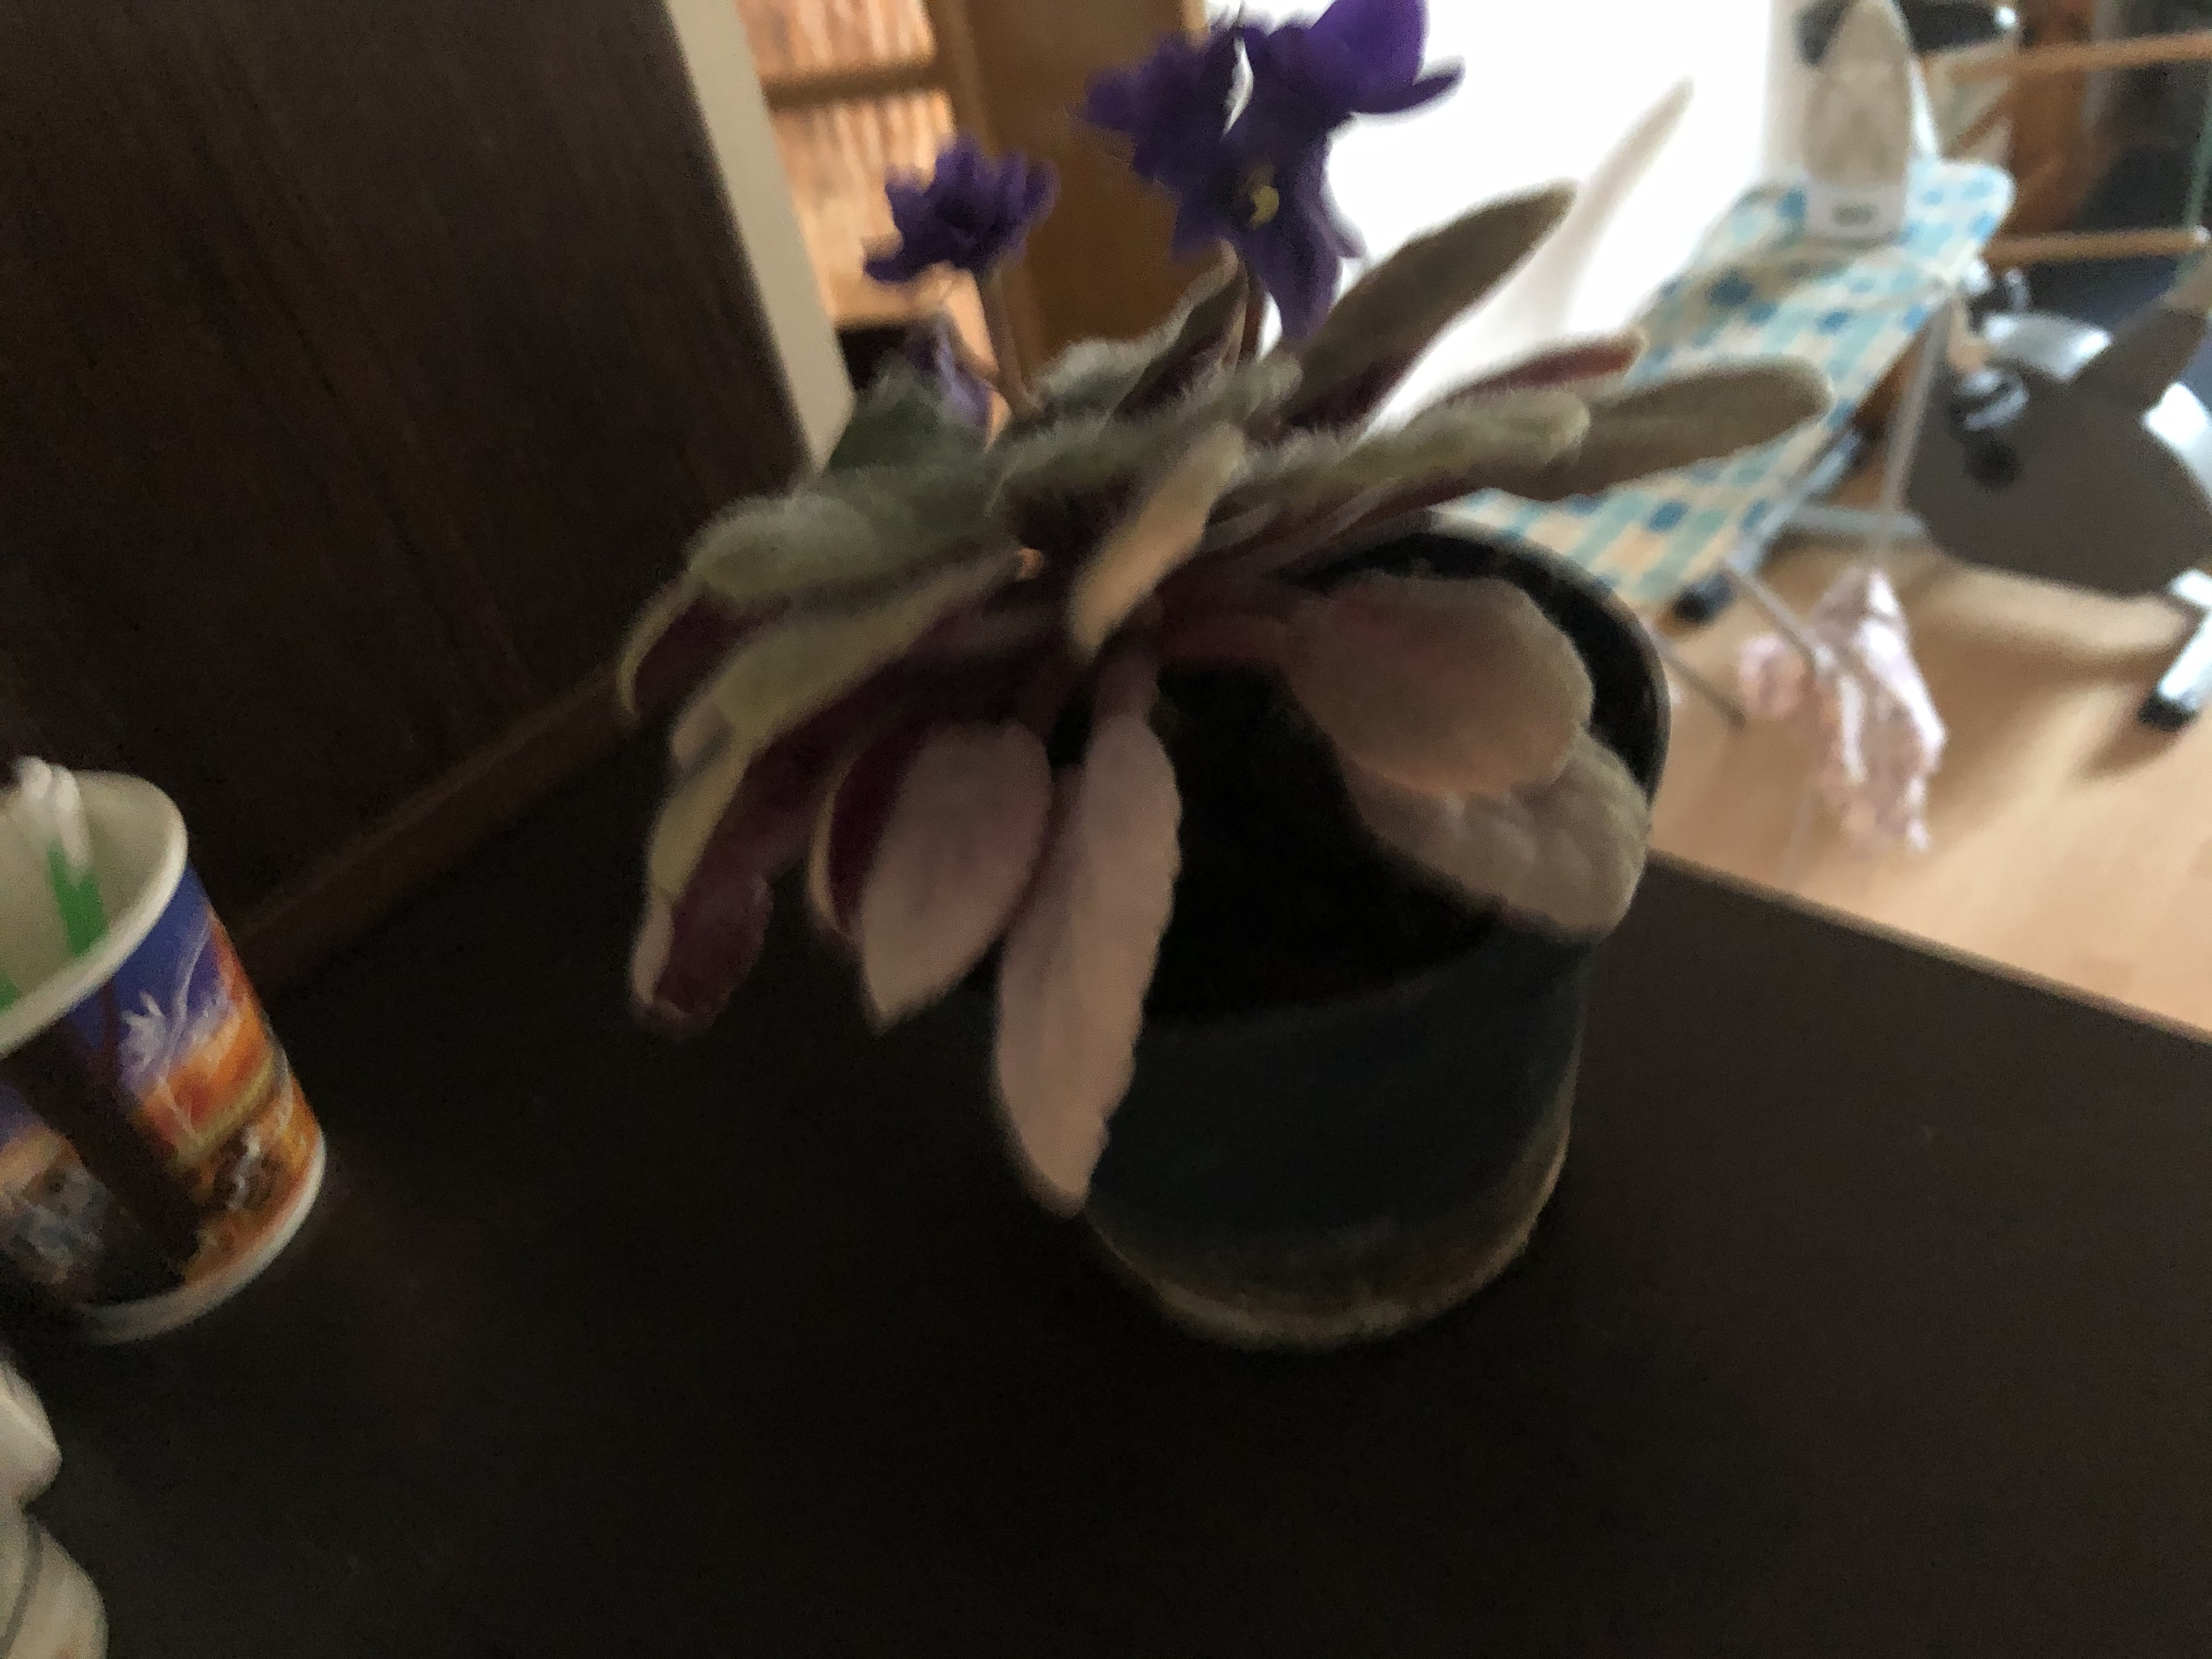ignore: (585, 14, 1864, 1126)
